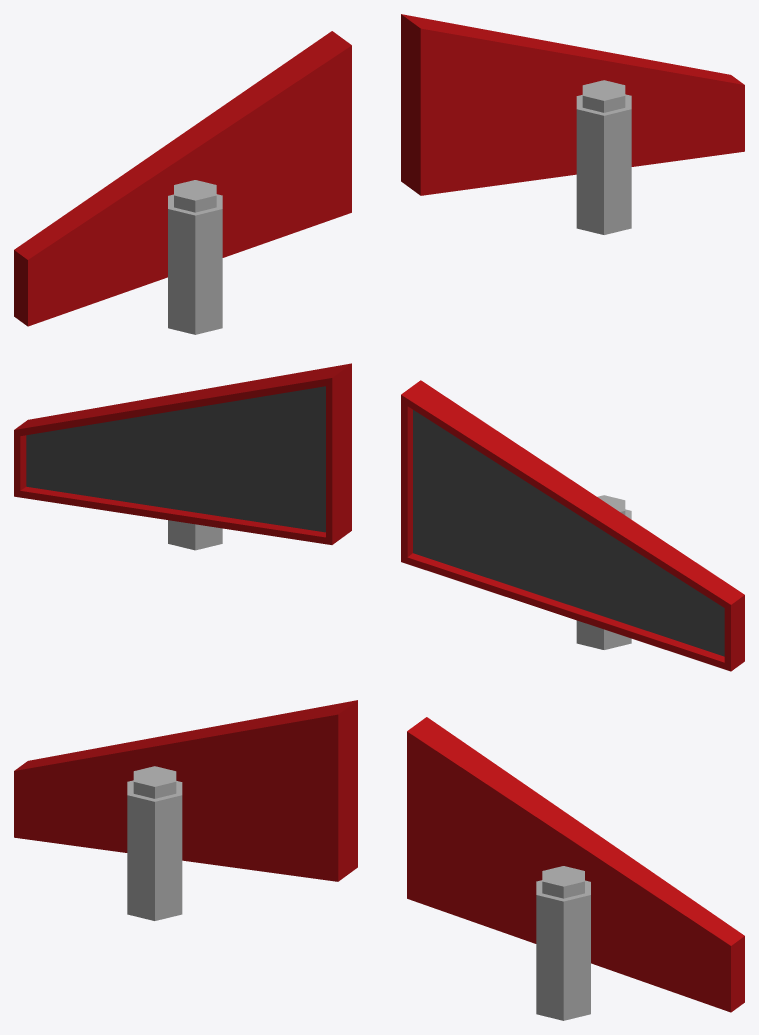
Rendered from robot_attachment.fbx.
The picture shows the model from 3 angles, top to bottom: view 1: azimuth 30°, elevation 25°; view 2: azimuth 150°, elevation 25°; view 3: azimuth 330°, elevation 25°; orthographic projection.
Visible parts, largest first — view 1: Mesh; view 2: Mesh; view 3: Mesh.
Part boxes in pixels (bbox=[...]): Mesh: bbox=[14, 14, 744, 334]; Mesh: bbox=[14, 363, 744, 671]; Mesh: bbox=[14, 700, 744, 1020].
Size of the model in its own units: 2.12 by 0.6352 by 0.2398.
